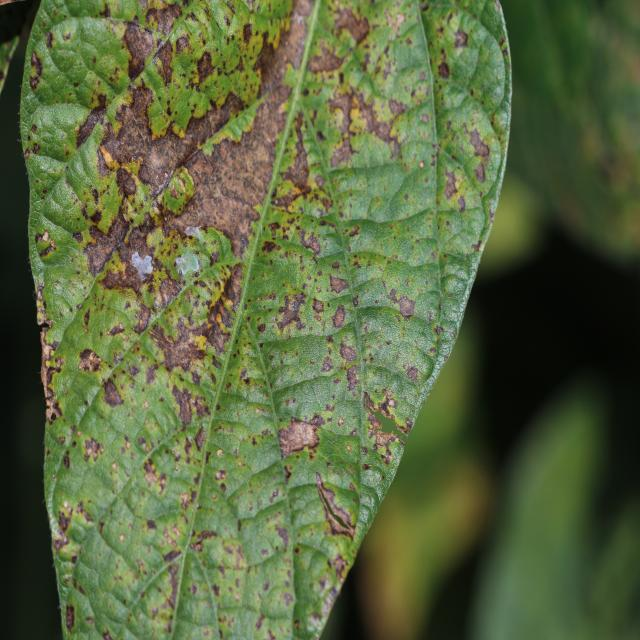Bacterial_Blight: (191, 121, 279, 242), (144, 288, 227, 374), (127, 213, 211, 285), (168, 147, 230, 230), (107, 100, 171, 180), (269, 113, 316, 196), (274, 395, 328, 465), (317, 87, 369, 155), (195, 89, 248, 155), (122, 215, 167, 283), (54, 493, 100, 556), (71, 95, 114, 154), (390, 101, 436, 153), (316, 478, 357, 535), (83, 226, 124, 279), (363, 407, 404, 459), (327, 6, 370, 48), (99, 261, 144, 296), (127, 83, 158, 132), (306, 39, 348, 74), (144, 2, 183, 35), (170, 382, 197, 425), (152, 38, 176, 85), (279, 291, 310, 327), (169, 53, 196, 88), (115, 164, 139, 200), (468, 127, 491, 159), (142, 459, 163, 492), (102, 377, 125, 407), (190, 529, 220, 551), (77, 349, 102, 373), (443, 168, 460, 200), (344, 363, 361, 393), (35, 295, 50, 329), (83, 437, 103, 462), (196, 51, 213, 80), (396, 294, 416, 317), (37, 238, 58, 259), (328, 274, 348, 295), (275, 525, 290, 551), (57, 508, 72, 534), (453, 27, 469, 48), (331, 305, 346, 327), (47, 401, 63, 421), (162, 548, 182, 564), (194, 426, 206, 452), (65, 603, 75, 630), (405, 364, 420, 382), (378, 398, 392, 417), (474, 162, 486, 183), (89, 209, 103, 226), (321, 355, 334, 373), (312, 298, 325, 315), (437, 61, 450, 78), (242, 23, 253, 43), (95, 93, 108, 109), (29, 75, 41, 91), (471, 239, 483, 254), (457, 195, 467, 213), (45, 31, 54, 49), (214, 469, 226, 482), (63, 452, 71, 470), (146, 518, 157, 531), (137, 435, 147, 446), (488, 210, 495, 223)
Soybean: (5, 0, 514, 640)
